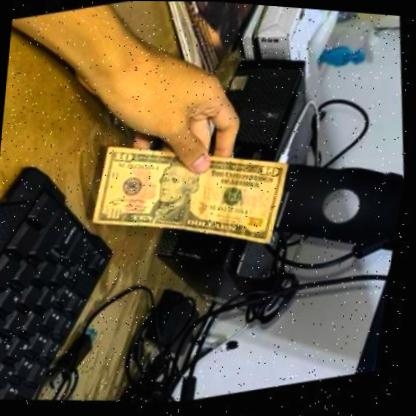ten-front: (73, 102, 309, 289)
